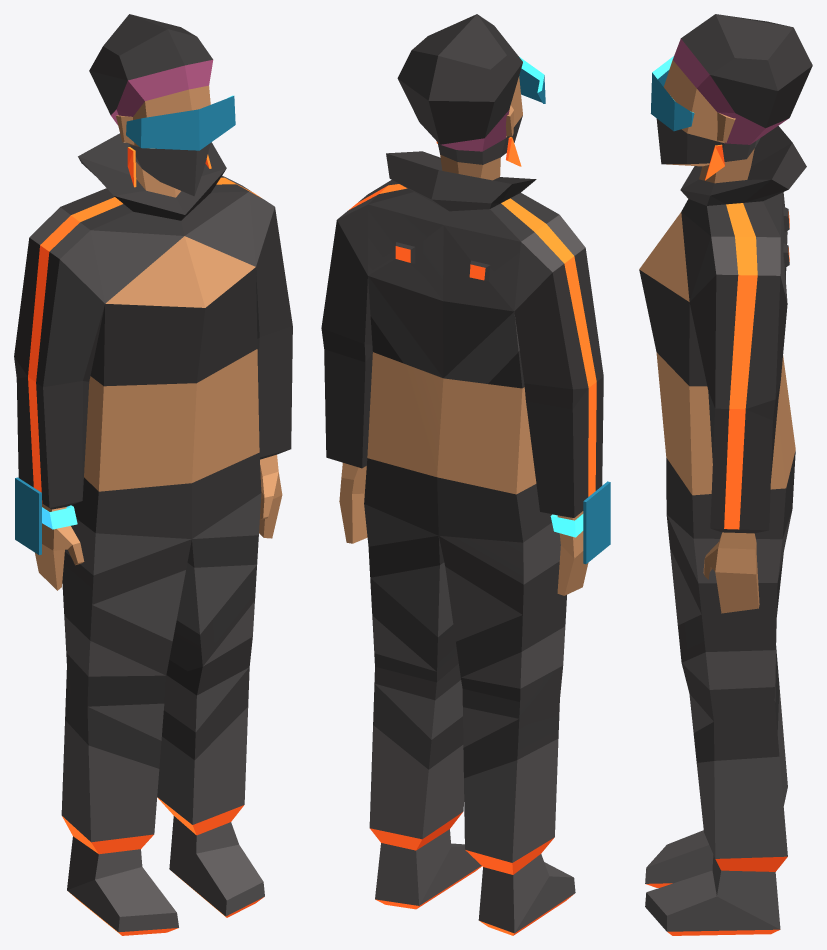
File: people_woman-scifi-goggles.fbx
3 views of the same model, side by side, from view 1: azimuth 30°, elevation 25°; view 2: azimuth 150°, elevation 25°; view 3: azimuth 270°, elevation 25° (orthographic).
Visible parts, largest first — view 1: people_woman_scifi_goggles; view 2: people_woman_scifi_goggles; view 3: people_woman_scifi_goggles.
Part boxes in pixels (x1,y1,x2,y2): people_woman_scifi_goggles: [14, 14, 292, 935]; people_woman_scifi_goggles: [321, 14, 610, 935]; people_woman_scifi_goggles: [639, 14, 812, 935].
Bounding box in the file's own units: 61.03 × 200 × 35.4.
